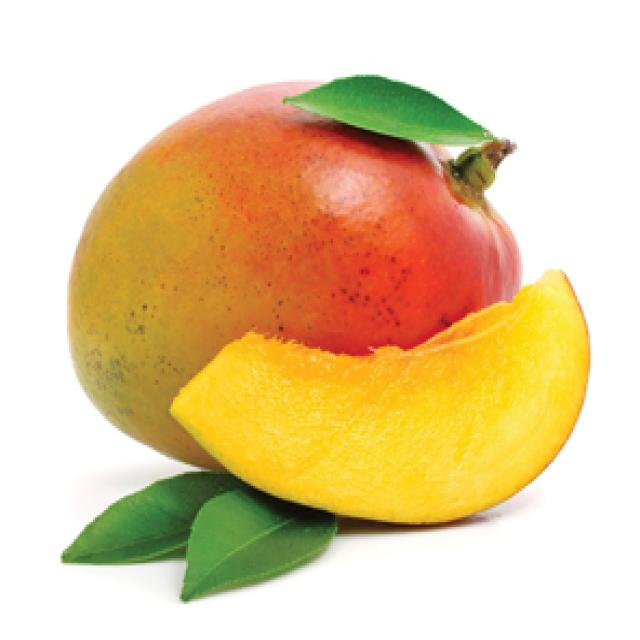mango: (36, 86, 555, 498)
